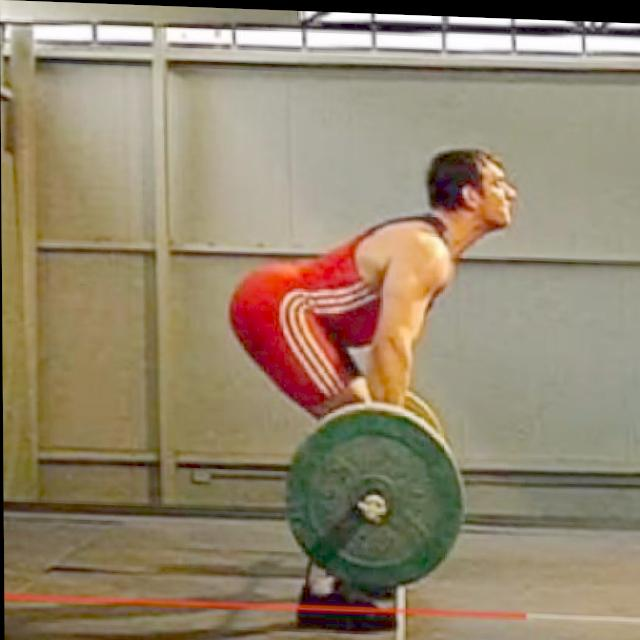barbell: (279, 394, 466, 592)
